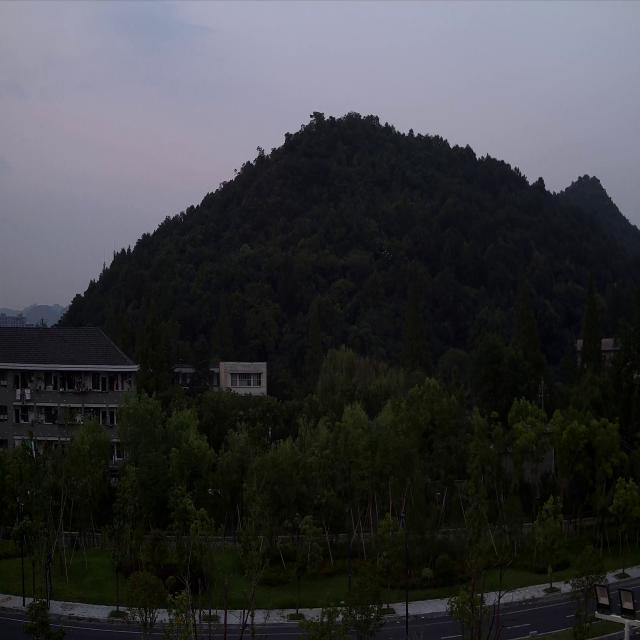drone: (382, 250, 392, 261)
